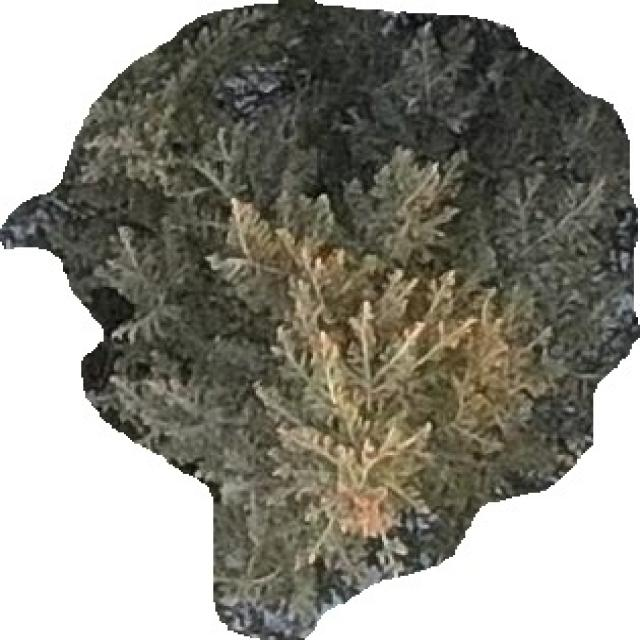spruce: (0, 0, 638, 638)
